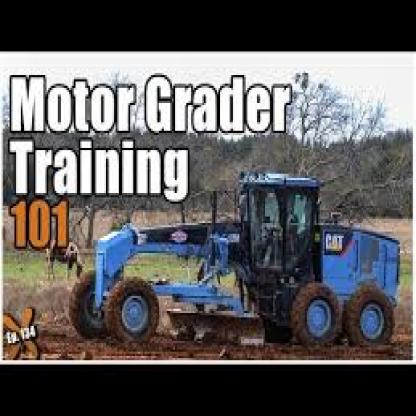bull_dozer/loader/grader: (58, 148, 405, 349)
